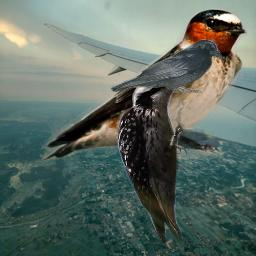Crow: (110, 39, 222, 93)
Swallow: (42, 6, 248, 160)
Woodpecker: (111, 64, 196, 253)
